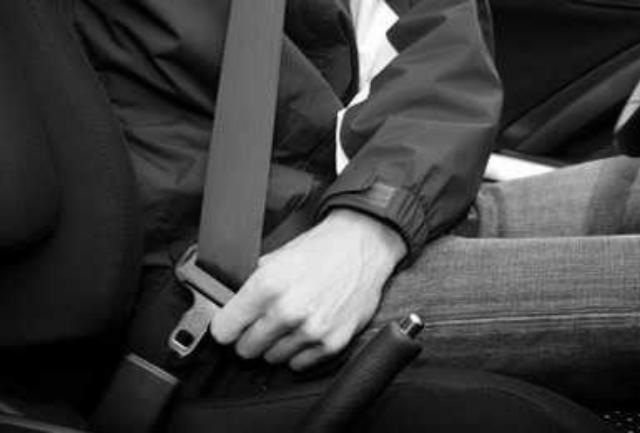Seatbelt: (169, 0, 289, 358)
